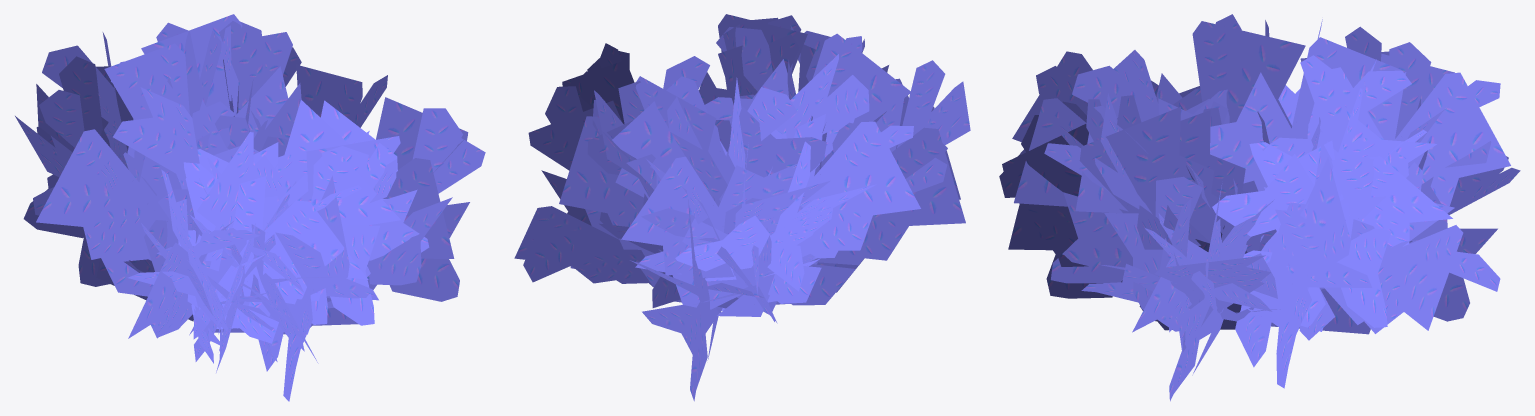
The model's file is tree_Broadleaf_Bush_M1_LOD0.fbx.
3 renders of one model, left to right at view 1: azimuth 30°, elevation 25°; view 2: azimuth 150°, elevation 25°; view 3: azimuth 270°, elevation 25°, orthographic. The views are drawn at different scales.
Visible parts, largest first — view 1: Broadleaf_Bush_M1_LOD0; view 2: Broadleaf_Bush_M1_LOD0; view 3: Broadleaf_Bush_M1_LOD0.
Part boxes in pixels (left/top/right/bottom): Broadleaf_Bush_M1_LOD0: left=15, top=14, right=485, bottom=401; Broadleaf_Bush_M1_LOD0: left=514, top=14, right=970, bottom=401; Broadleaf_Bush_M1_LOD0: left=999, top=14, right=1520, bottom=401.
Bounding box in the file's own units: 310 × 213 × 336.
